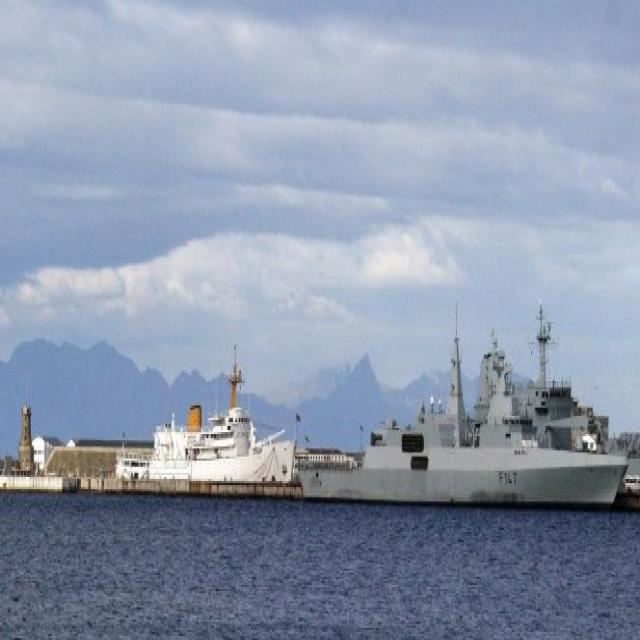Fragata: (292, 295, 633, 519)
